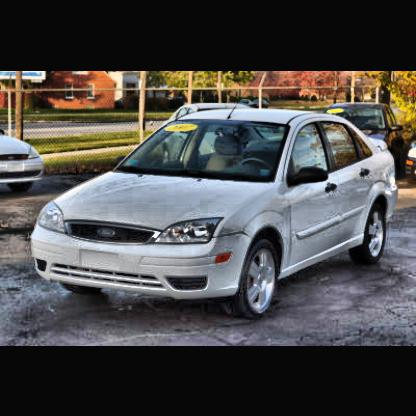Ford Focus Sedan 2007: (32, 107, 398, 315)
